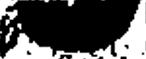Basket: (1, 0, 142, 55)
